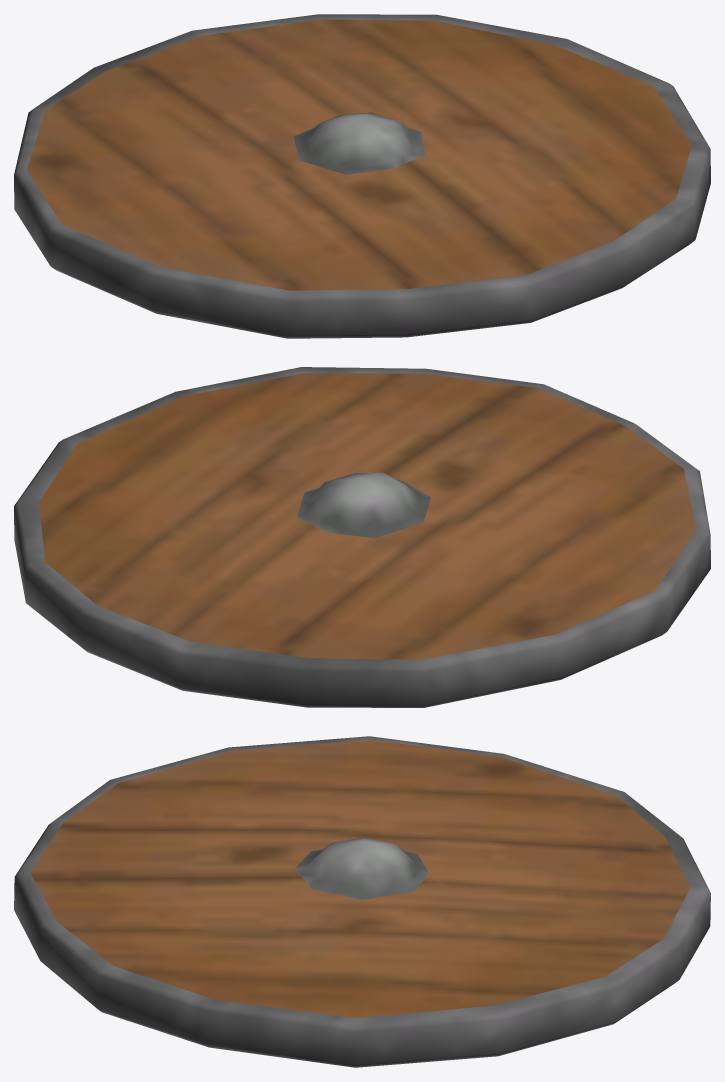
Rendered from ShieldBanded.fbx.
3 renders of one model, top to bottom at view 1: azimuth 30°, elevation 25°; view 2: azimuth 150°, elevation 25°; view 3: azimuth 270°, elevation 25°, orthographic. The views are drawn at different scales.
Parts seen in each view (by area): view 1: model; view 2: model; view 3: model.
Part boxes in pixels (bbox=[...]): model: bbox=[14, 14, 710, 338]; model: bbox=[14, 367, 710, 707]; model: bbox=[14, 736, 710, 1067].
Bounding box in the file's own units: 0.9677 × 0.1488 × 0.9684.
Materials: 1 (1 with a texture image).
